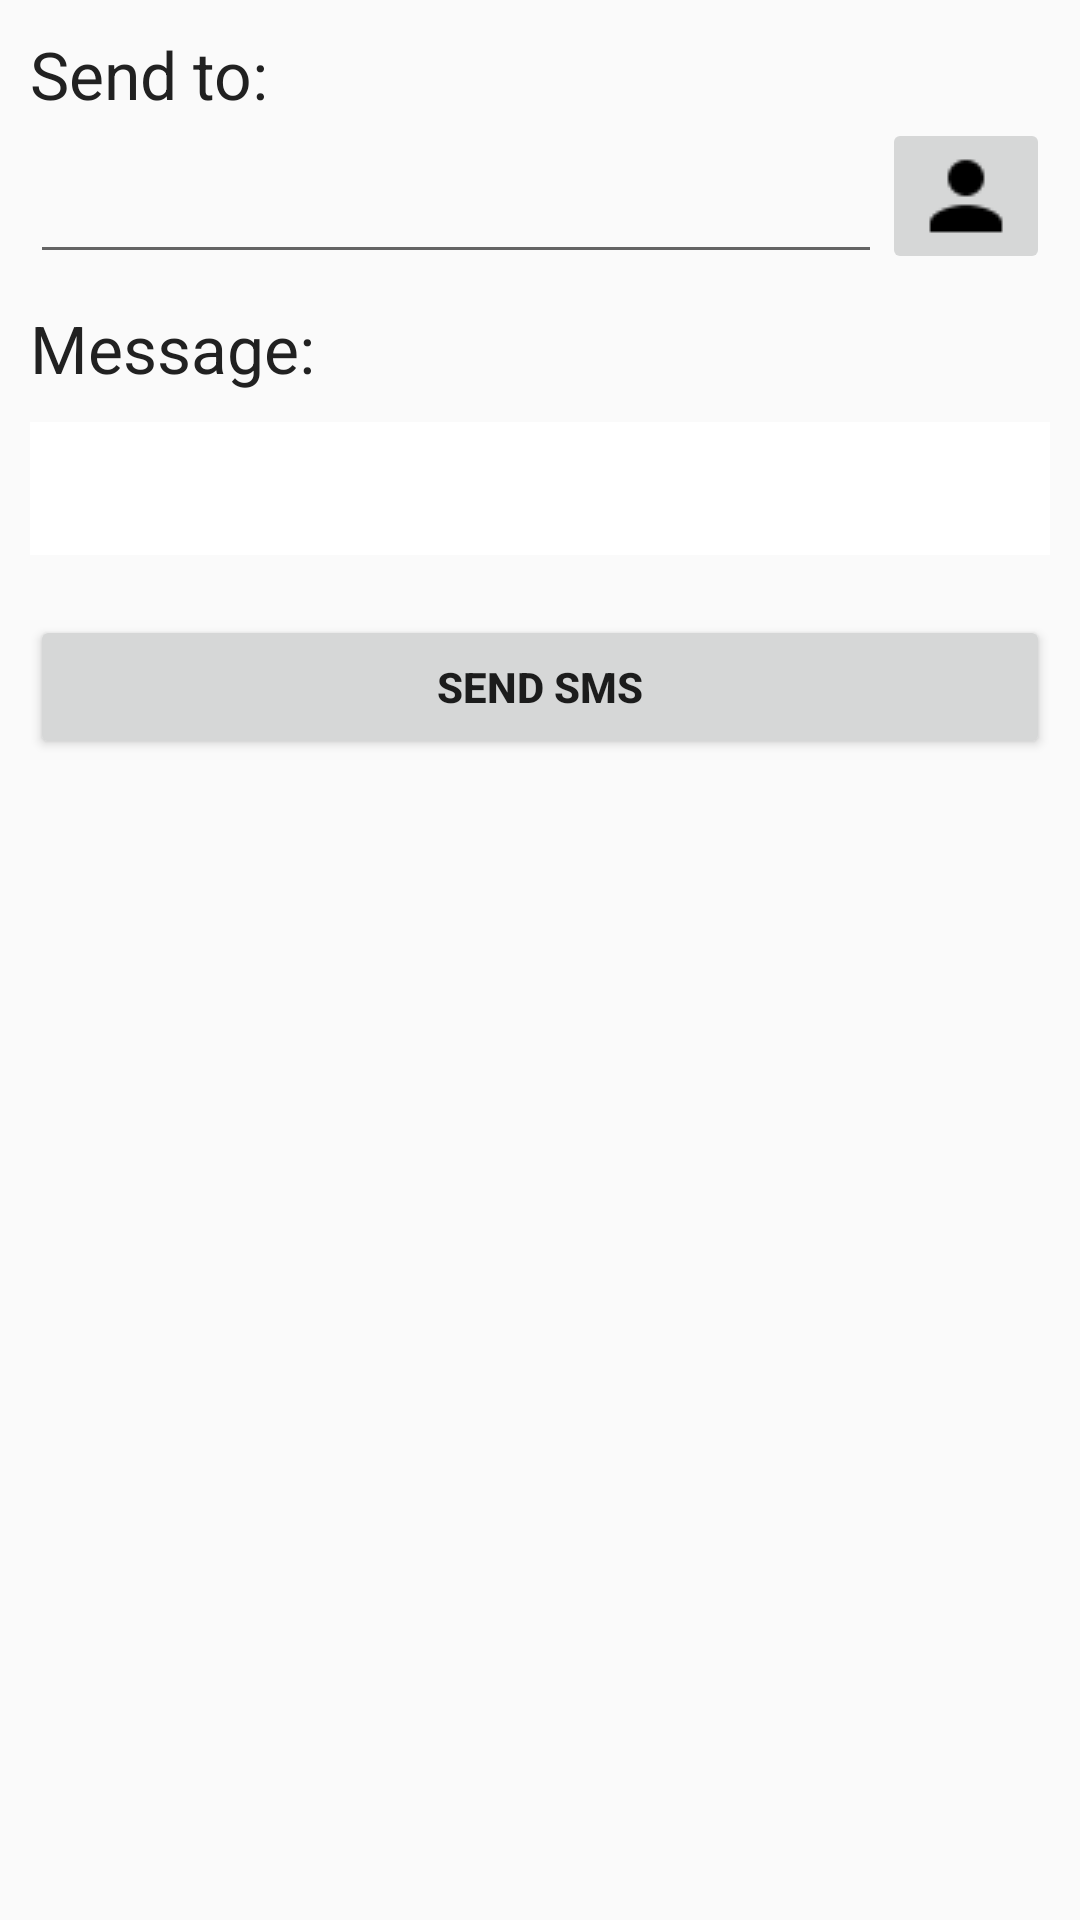

Named icons in this screenshot (1080x1920) and their centers, (x=x, y=y):
Choose a telephone number from your contacts: (x=966, y=196)
